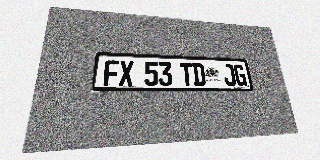3: (158, 61, 172, 86)
5: (145, 61, 158, 86)
D: (192, 63, 206, 86)
F: (103, 60, 119, 86)
G: (233, 64, 247, 86)
J: (222, 64, 236, 86)
T: (180, 62, 194, 86)
X: (119, 60, 134, 86)
